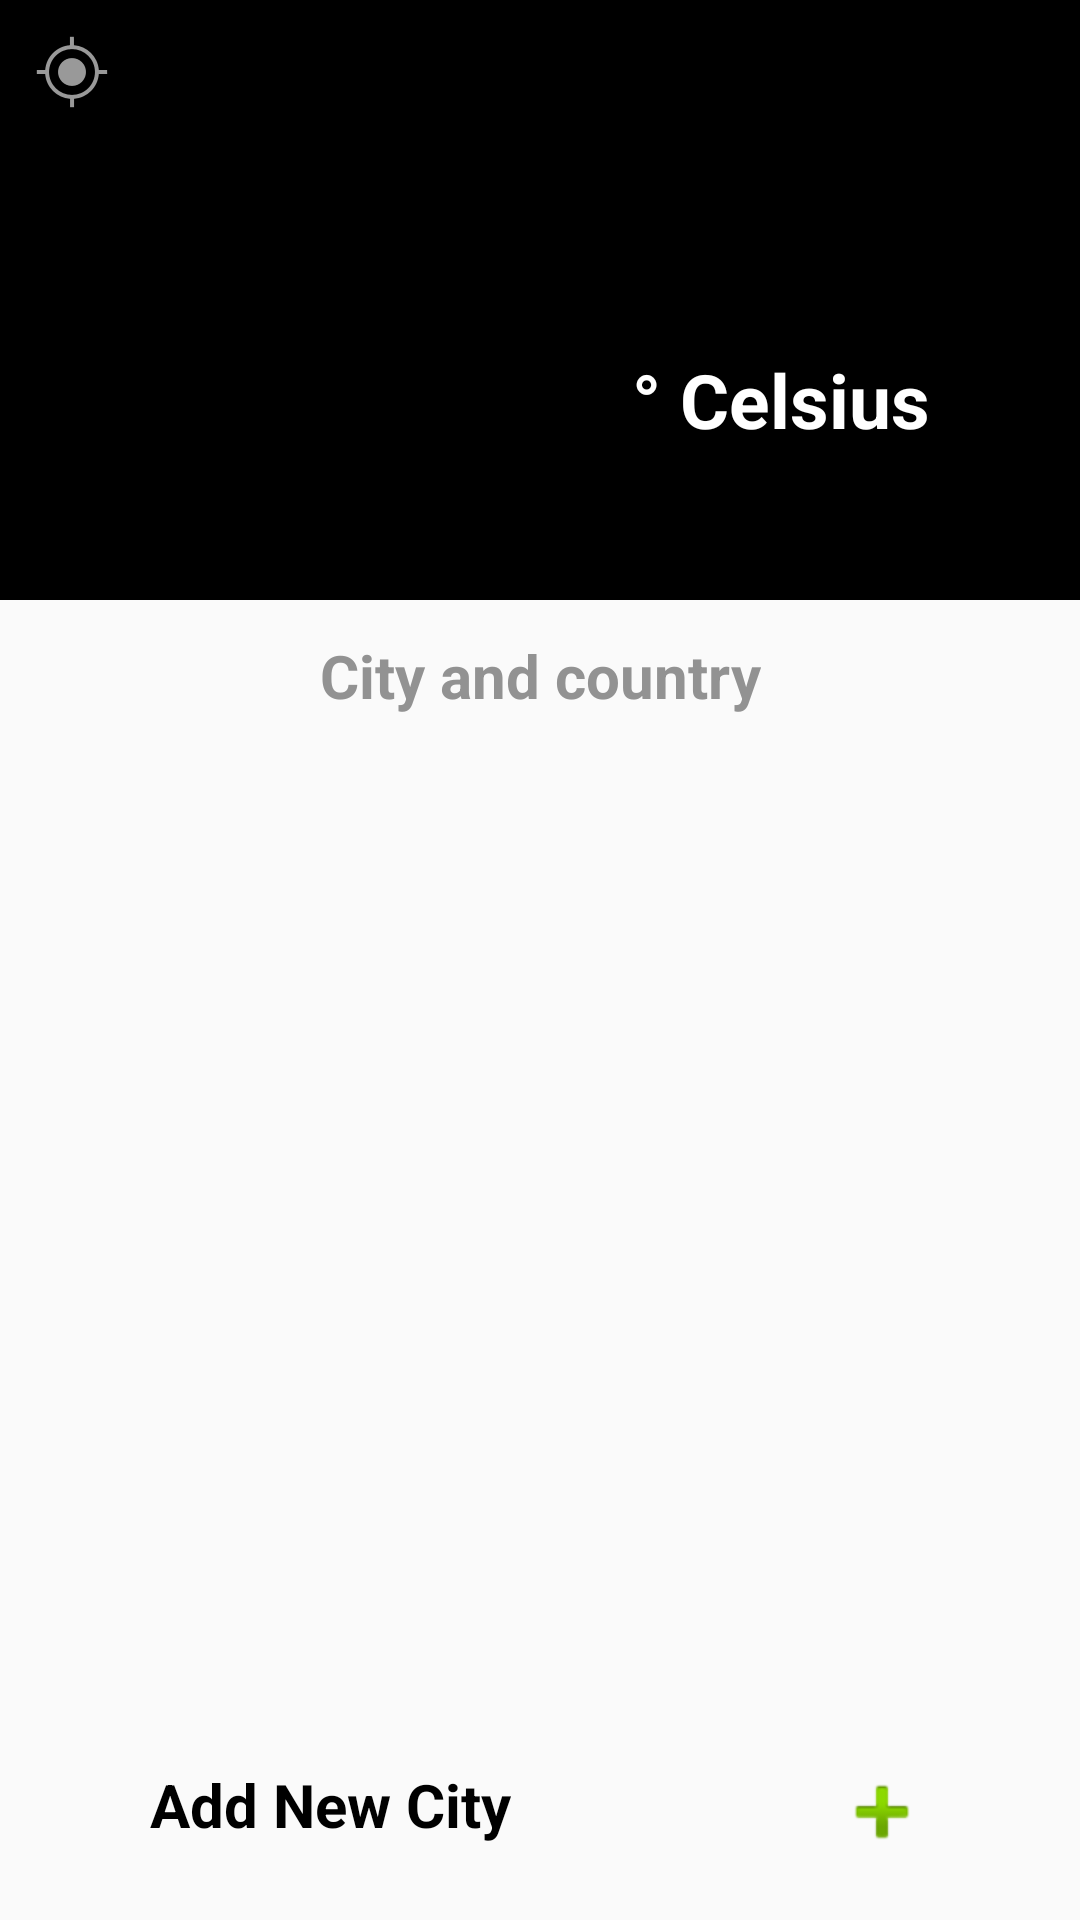

Icons on this 1080x1920 Android screen, each with its box as (x1, y1, x2, y2):
add: (855, 1785, 909, 1839)
mylocation: (36, 36, 108, 108)
